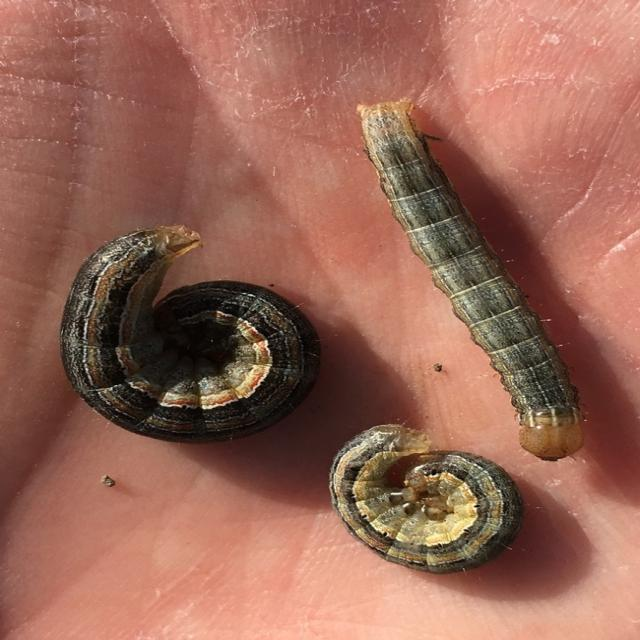pest-armyworm: (352, 92, 592, 465), (54, 221, 318, 449), (328, 423, 517, 582)
